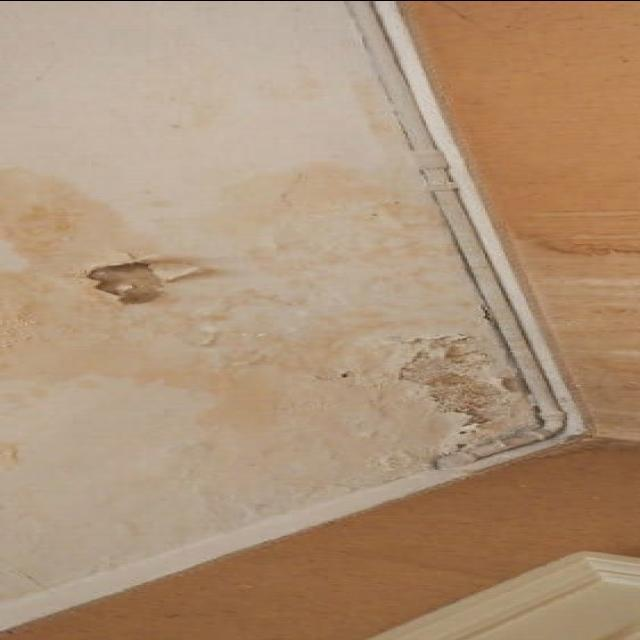leak: (3, 160, 544, 485)
